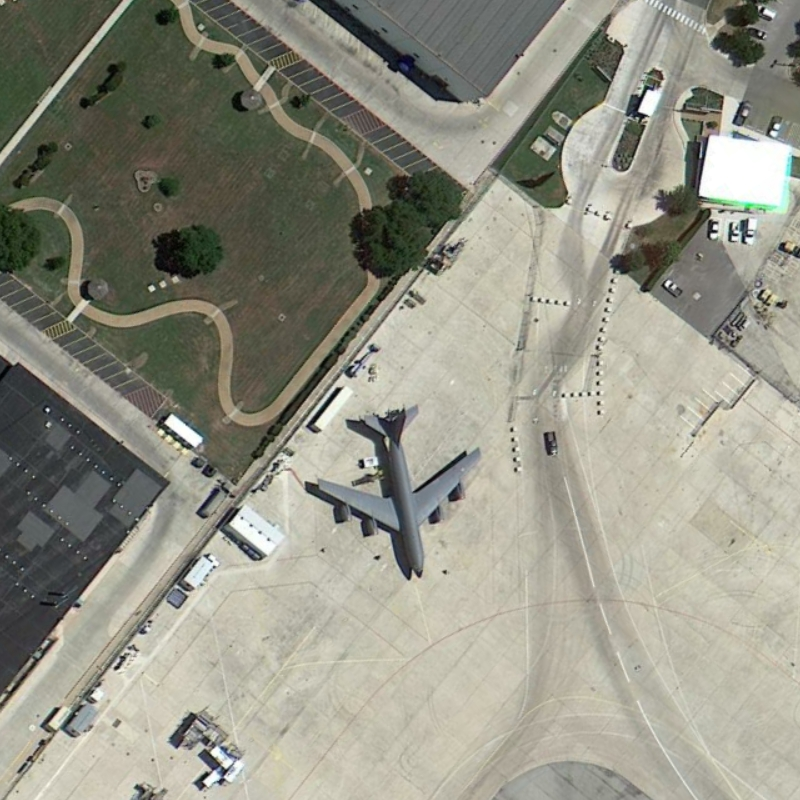A14: (307, 400, 492, 587)
